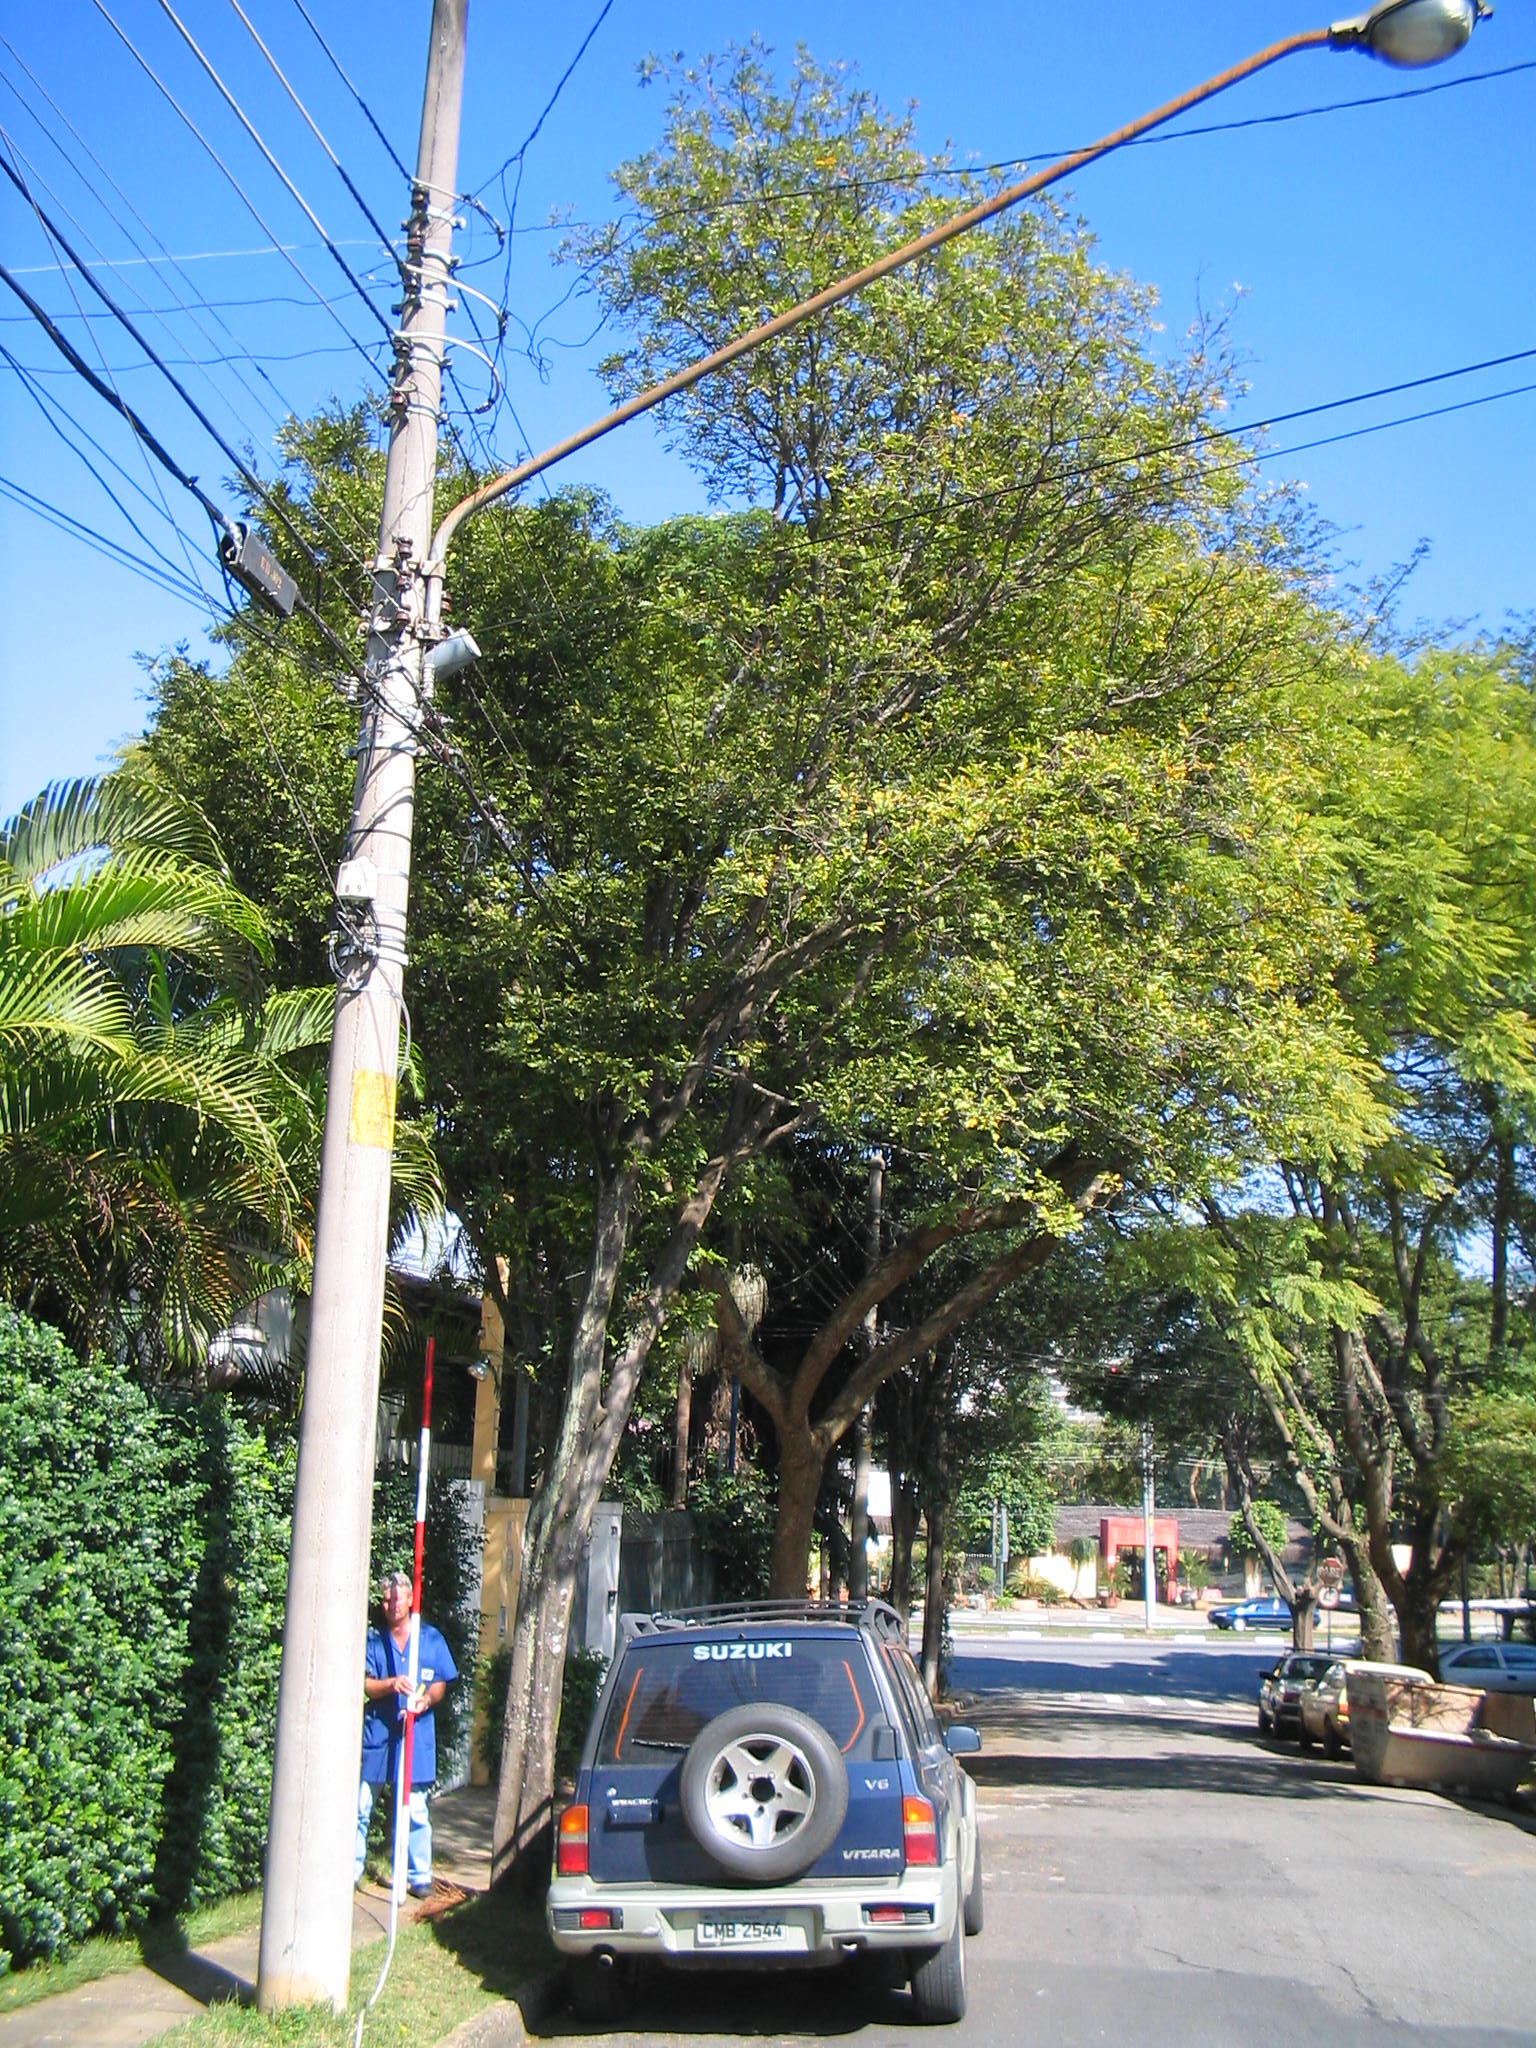stem: (473, 1416, 599, 1890)
stick: (386, 1337, 452, 1901)
